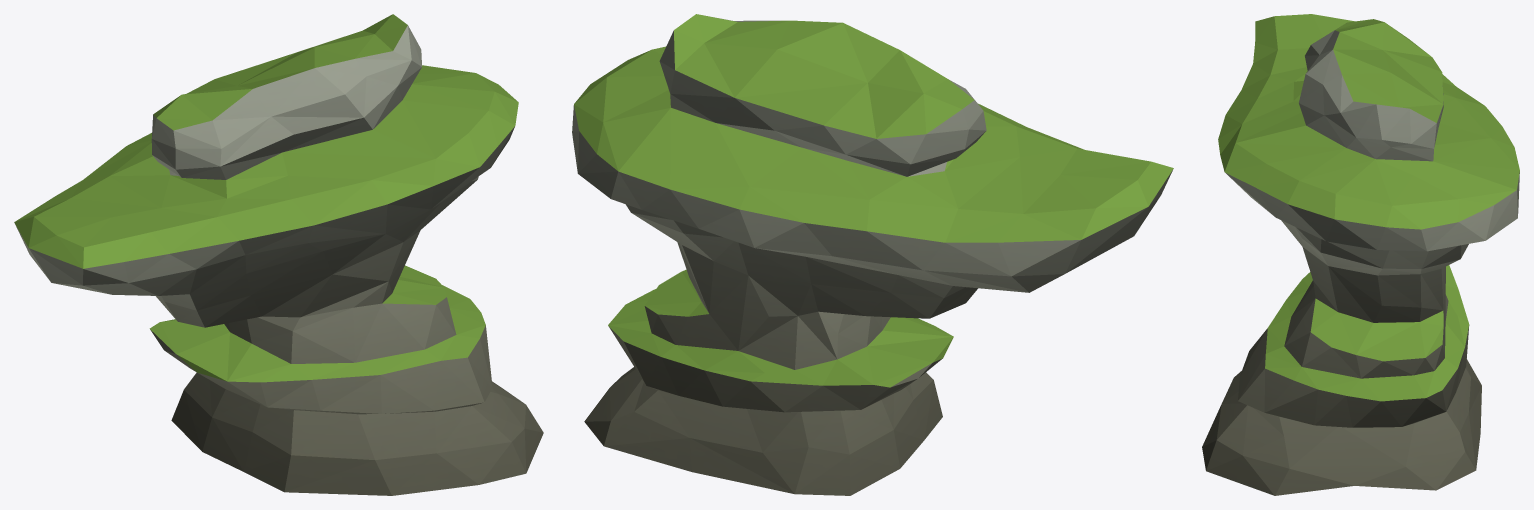
File: ZLP_Rock_D_9.FBX
3 renders of one model, left to right at view 1: azimuth 30°, elevation 25°; view 2: azimuth 150°, elevation 25°; view 3: azimuth 270°, elevation 25°, orthographic. The views are drawn at different scales.
Parts seen in each view (by area): view 1: ZLP_Rock_D_9; view 2: ZLP_Rock_D_9; view 3: ZLP_Rock_D_9.
Boxes of the visible parts, box(x1,y1,x2,y2) form: ZLP_Rock_D_9: box(14, 14, 543, 495); ZLP_Rock_D_9: box(572, 14, 1173, 495); ZLP_Rock_D_9: box(1202, 14, 1519, 495).
Bounding box in the file's own units: 241 × 179 × 144.
